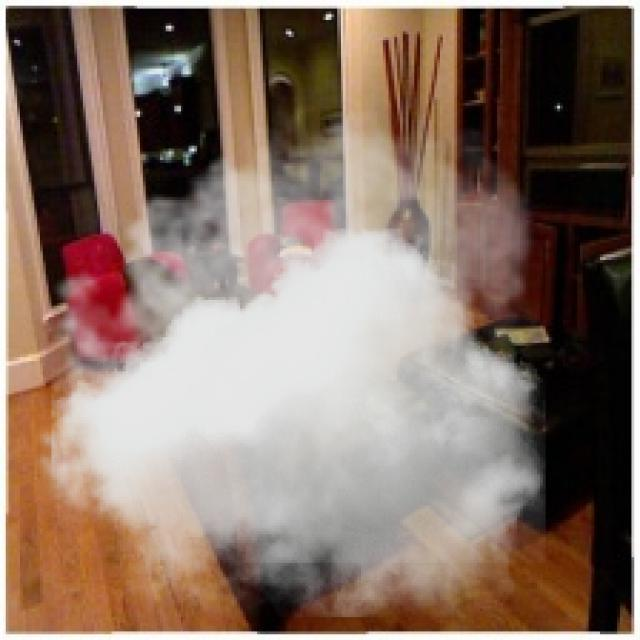Smoke: (20, 92, 546, 618)
